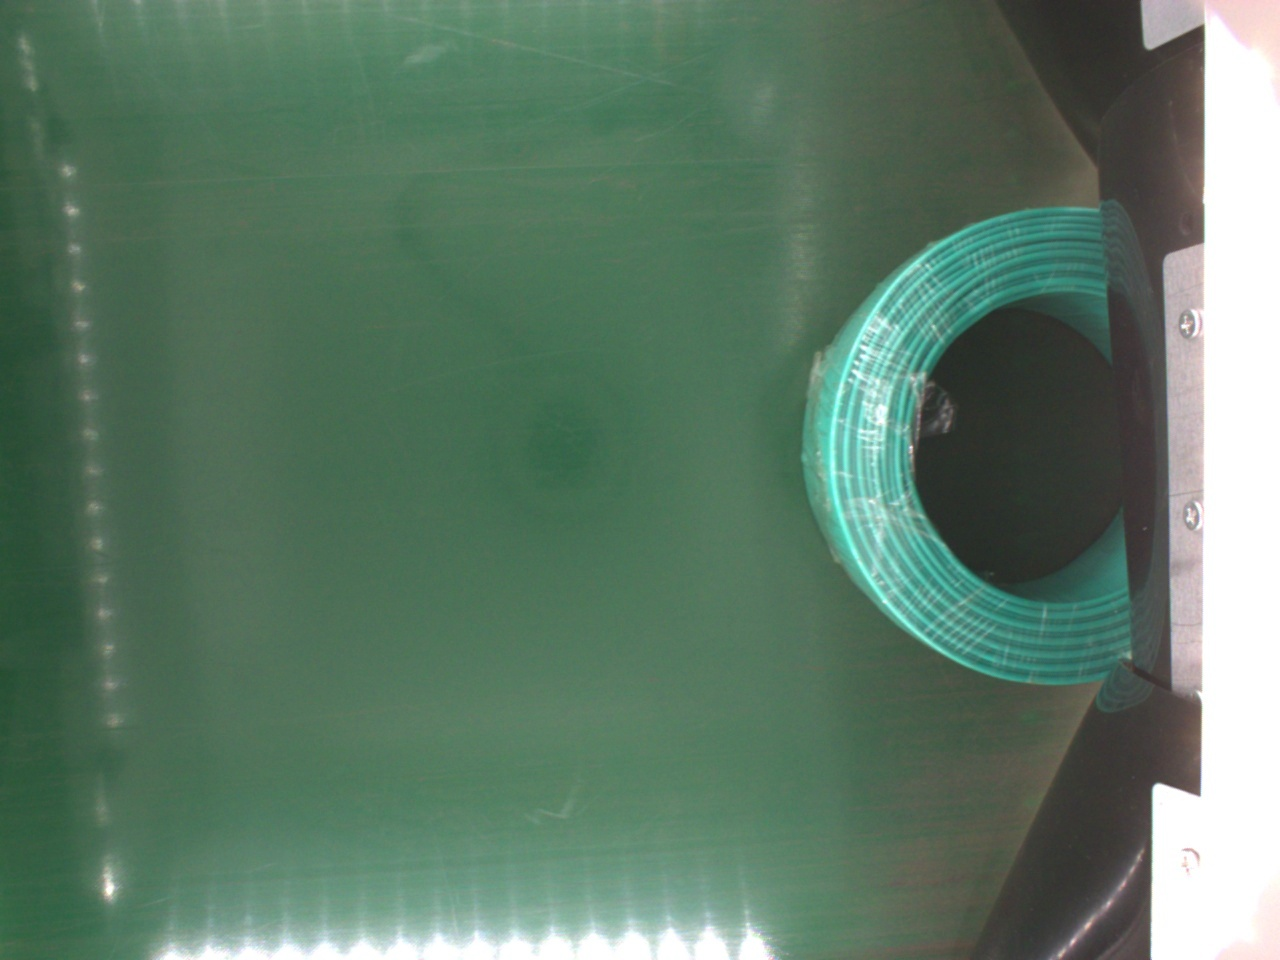green: (801, 206, 1141, 683)
